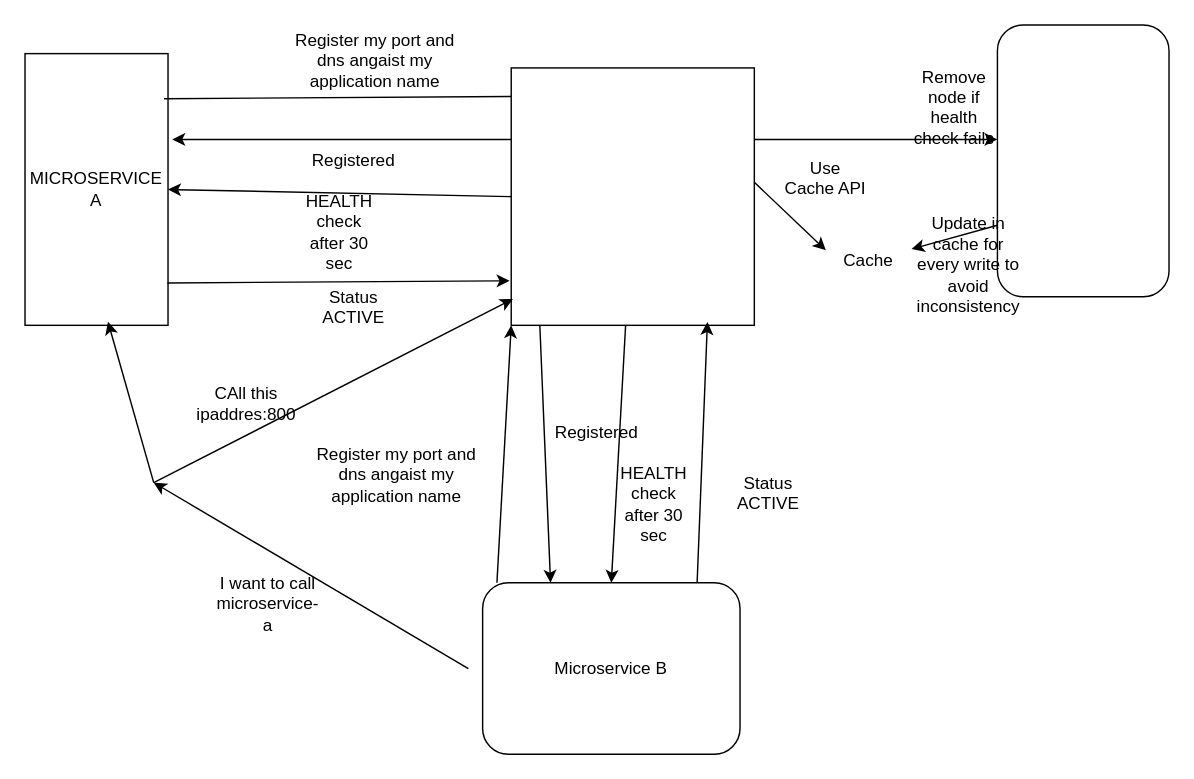
The diagram is 1194 pixels wide and 779 high, and some of its shapes have lost their labels. Here are the shapes that lost their labels. From the top down, the centre of each, then its label:
At pixel 1082 160: "DB".
At pixel 632 195: "SERVICE Discovery".
